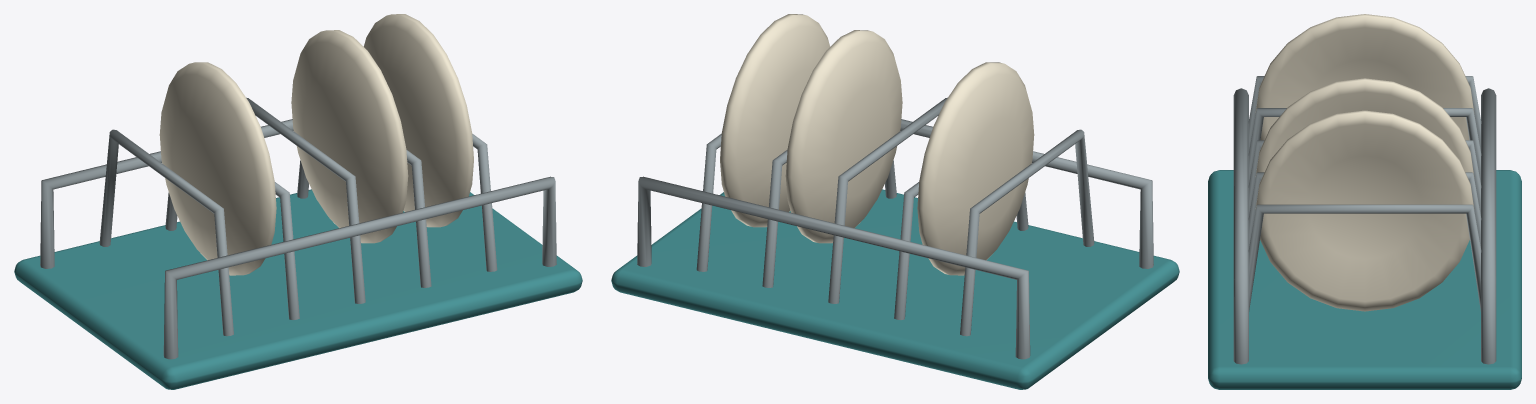
The model's file is HotelTogether-DishRack.glb.
3 views of the same model, side by side, from view 1: azimuth 30°, elevation 25°; view 2: azimuth 150°, elevation 25°; view 3: azimuth 270°, elevation 25° (orthographic).
Parts seen in each view (by area): view 1: Rack_DripBase, Rack_CleanPlate.001, Rack_CleanPlate, Rack_CleanPlate.002, Rack_Frame, Rack_PlateSlot, Rack_Frame.001, Rack_PlateSlot.002, Rack_PlateSlot.001, Rack_PlateSlot.003, Rack_PlateSlot.004; view 2: Rack_DripBase, Rack_CleanPlate.001, Rack_CleanPlate, Rack_CleanPlate.002, Rack_Frame.001, Rack_PlateSlot, Rack_Frame, Rack_PlateSlot.002, Rack_PlateSlot.001, Rack_PlateSlot.003, Rack_PlateSlot.004; view 3: Rack_DripBase, Rack_CleanPlate.002, Rack_CleanPlate, Rack_CleanPlate.001, Rack_Frame, Rack_Frame.001, Rack_PlateSlot.004, Rack_PlateSlot.001, Rack_PlateSlot.003, Rack_PlateSlot.002, Rack_PlateSlot.
Boxes of the visible parts, box(x1,y1,x2,y2) form: Rack_DripBase: box(14, 189, 582, 389); Rack_CleanPlate.001: box(291, 30, 408, 243); Rack_CleanPlate: box(159, 62, 276, 275); Rack_CleanPlate.002: box(363, 14, 473, 227); Rack_Frame: box(163, 176, 556, 359); Rack_PlateSlot: box(99, 129, 233, 336); Rack_Frame.001: box(40, 119, 293, 268); Rack_PlateSlot.002: box(246, 97, 365, 303); Rack_PlateSlot.001: box(165, 182, 299, 319); Rack_PlateSlot.003: box(297, 149, 431, 287); Rack_PlateSlot.004: box(472, 134, 497, 271); Rack_DripBase: box(611, 189, 1179, 389); Rack_CleanPlate.001: box(785, 30, 902, 243); Rack_CleanPlate: box(917, 62, 1034, 275); Rack_CleanPlate.002: box(720, 14, 830, 227); Rack_Frame.001: box(637, 176, 1030, 359); Rack_PlateSlot: box(960, 129, 1094, 336); Rack_Frame: box(900, 119, 1153, 268); Rack_PlateSlot.002: box(828, 97, 947, 303); Rack_PlateSlot.001: box(894, 182, 1028, 319); Rack_PlateSlot.003: box(762, 149, 896, 287); Rack_PlateSlot.004: box(696, 134, 721, 271); Rack_DripBase: box(1208, 170, 1521, 389); Rack_CleanPlate.002: box(1255, 110, 1474, 311); Rack_CleanPlate: box(1255, 14, 1474, 140); Rack_CleanPlate.001: box(1255, 78, 1474, 177); Rack_Frame: box(1233, 88, 1248, 364); Rack_Frame.001: box(1481, 88, 1496, 364); Rack_PlateSlot.004: box(1248, 204, 1481, 311); Rack_PlateSlot.001: box(1248, 108, 1481, 182); Rack_PlateSlot.003: box(1248, 172, 1481, 247); Rack_PlateSlot.002: box(1248, 140, 1481, 215); Rack_PlateSlot: box(1248, 76, 1481, 150).
Bounding box in the file's own units: 0.51 × 0.275 × 0.33.
